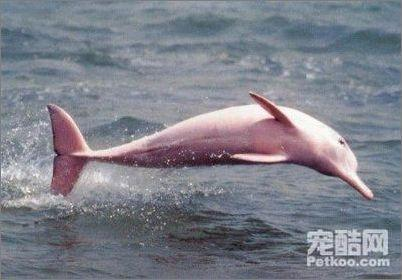fish: (22, 89, 375, 203)
